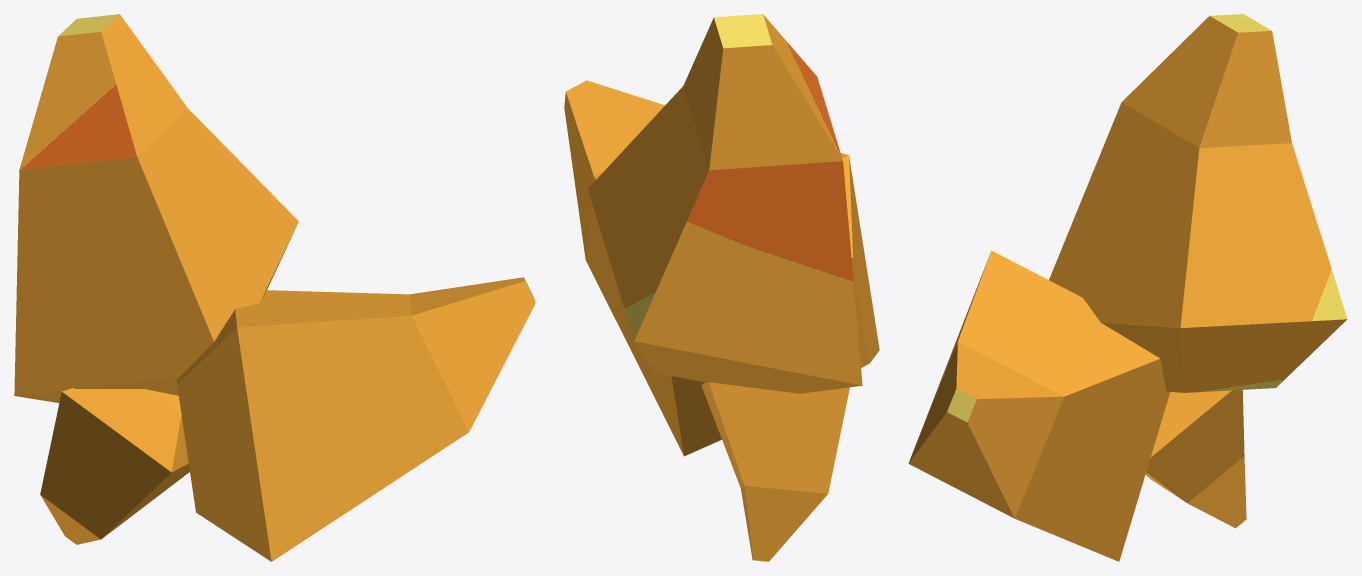
File: crystall_medium.fbx
3 renders of one model, left to right at view 1: azimuth 30°, elevation 25°; view 2: azimuth 150°, elevation 25°; view 3: azimuth 270°, elevation 25°, orthographic. The views are drawn at different scales.
Visible parts, largest first — view 1: Cube.019; view 2: Cube.019; view 3: Cube.019.
Part boxes in pixels (bbox=[...]): Cube.019: bbox=[14, 14, 535, 561]; Cube.019: bbox=[564, 14, 879, 561]; Cube.019: bbox=[908, 14, 1347, 561].
Size of the model in its own units: 132 by 162 by 125.
